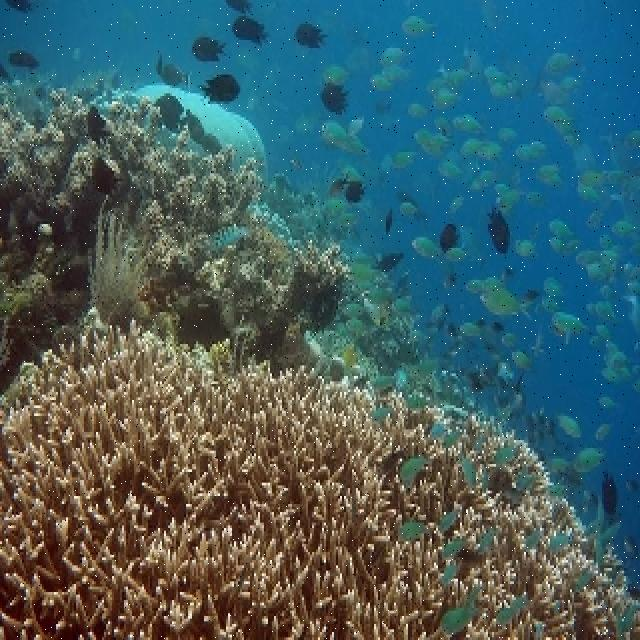fish: (482, 285, 537, 318), (319, 118, 366, 152), (197, 74, 241, 104), (320, 81, 355, 115), (232, 14, 267, 46), (488, 203, 509, 253), (192, 35, 225, 61)
reefs: (0, 317, 638, 637), (1, 84, 354, 394)
